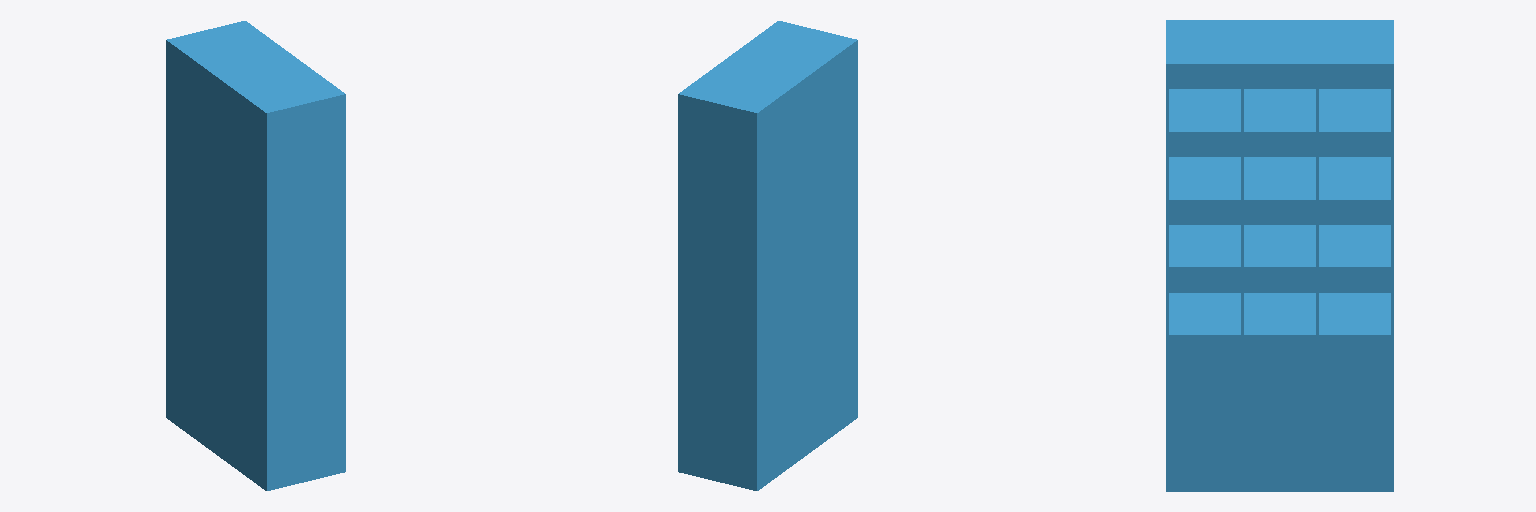
robot.urdf — rack:
<?xml version="1.0"?>
<robot name="rack">

  <link name="world"/>

  <joint name="fixed" type="fixed">
    <parent link="world"/>
    <child link="base_link"/>
  </joint>

  <link name="base_link">
    <collision>
        <geometry>
          <mesh filename="package://ur5_notebook/launch/rack.stl" />
        </geometry>
    </collision>

    <visual>
        <geometry>
          <mesh filename="package://ur5_notebook/launch/rack.stl" />
        </geometry>
    </visual>

    <inertial>
      <origin xyz="0 0 0" rpy="0 0 0"/>
      <mass value="10.0"/>
      <inertia
        ixx="1.0" ixy="0.0" ixz="0.0"
        iyy="1.0" iyz="0.0"
        izz="1.0"/>
    </inertial>
  </link>

<gazebo reference="base_link">
  <material>Gazebo/White</material>
  <mu1 value="0.01" />
  <mu2 value="0.01" />
</gazebo>


</robot>

--- Facts derived from the render (not from the file) ---
3 views of the same robot in one strip: view 1: azimuth 30°, elevation 25°; view 2: azimuth 150°, elevation 25°; view 3: azimuth 270°, elevation 25° (orthographic).
Model rack with 2 links and 1 joints (1 fixed), rooted at world, posed all joints at 0.
Visible links, largest first — view 1: base_link; view 2: base_link; view 3: base_link.
Boxes of the visible links, x1=… form: base_link: x1=166, y1=21, x2=345, y2=490; base_link: x1=678, y1=21, x2=857, y2=490; base_link: x1=1166, y1=20, x2=1393, y2=491.
Bounding box of the posed robot: 0.36 × 0.79 × 1.64 m (x, y, z).
Meshes: 1 distinct files referenced, 1 mesh visuals loaded (1 binary STL).